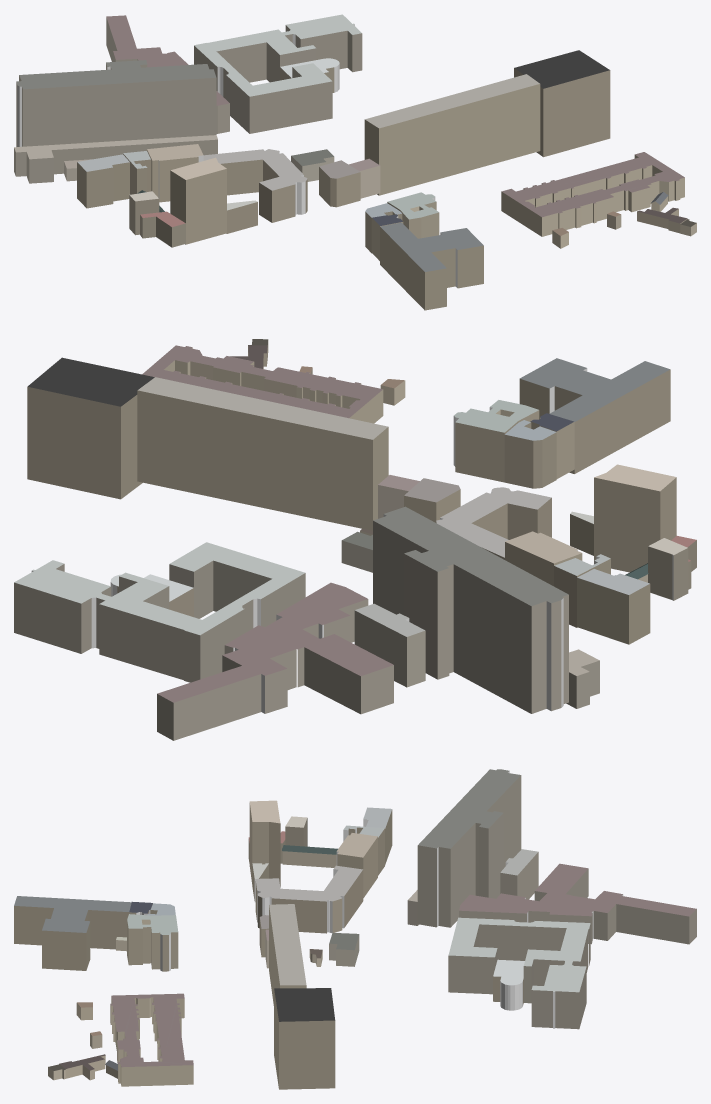
3 views of the same model, one above another, from view 1: azimuth 30°, elevation 25°; view 2: azimuth 150°, elevation 25°; view 3: azimuth 270°, elevation 25° (orthographic). The views are drawn at different scales.
Visible parts, largest first — view 1: tuile; view 2: tuile; view 3: tuile.
Boxes of the visible parts, box(x1,y1,x2,y2) form: tuile: box(14, 14, 696, 310); tuile: box(14, 339, 696, 740); tuile: box(14, 769, 696, 1089).
Bounding box in the file's own units: 266 × 47.77 × 323.
